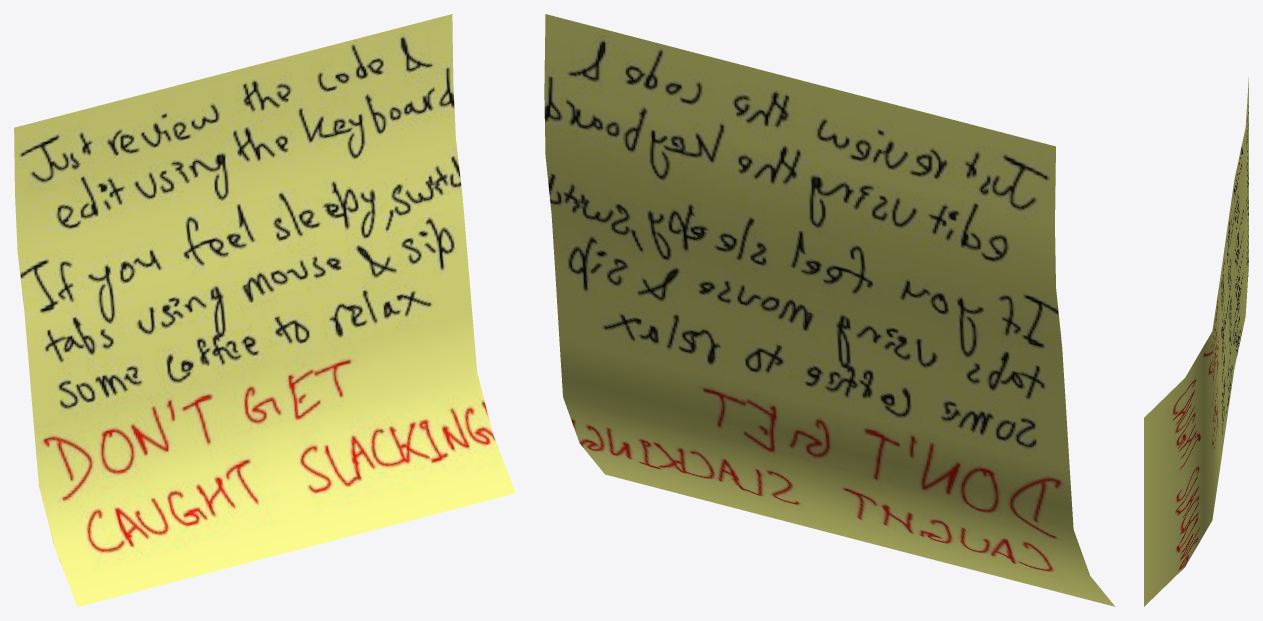
File: Sticky Rules.glb
3 renders of one model, left to right at view 1: azimuth 30°, elevation 25°; view 2: azimuth 150°, elevation 25°; view 3: azimuth 270°, elevation 25°, orthographic. The views are drawn at different scales.
Visible parts, largest first — view 1: StickyNote.005; view 2: StickyNote.005; view 3: StickyNote.005.
Boxes of the visible parts, bbox=[...] form: StickyNote.005: bbox=[14, 14, 515, 606]; StickyNote.005: bbox=[544, 14, 1115, 606]; StickyNote.005: bbox=[1144, 77, 1248, 606].
Size of the model in its own units: 0.0773 by 0.074 by 0.0173.
Materials: 1 (1 with a texture image).
